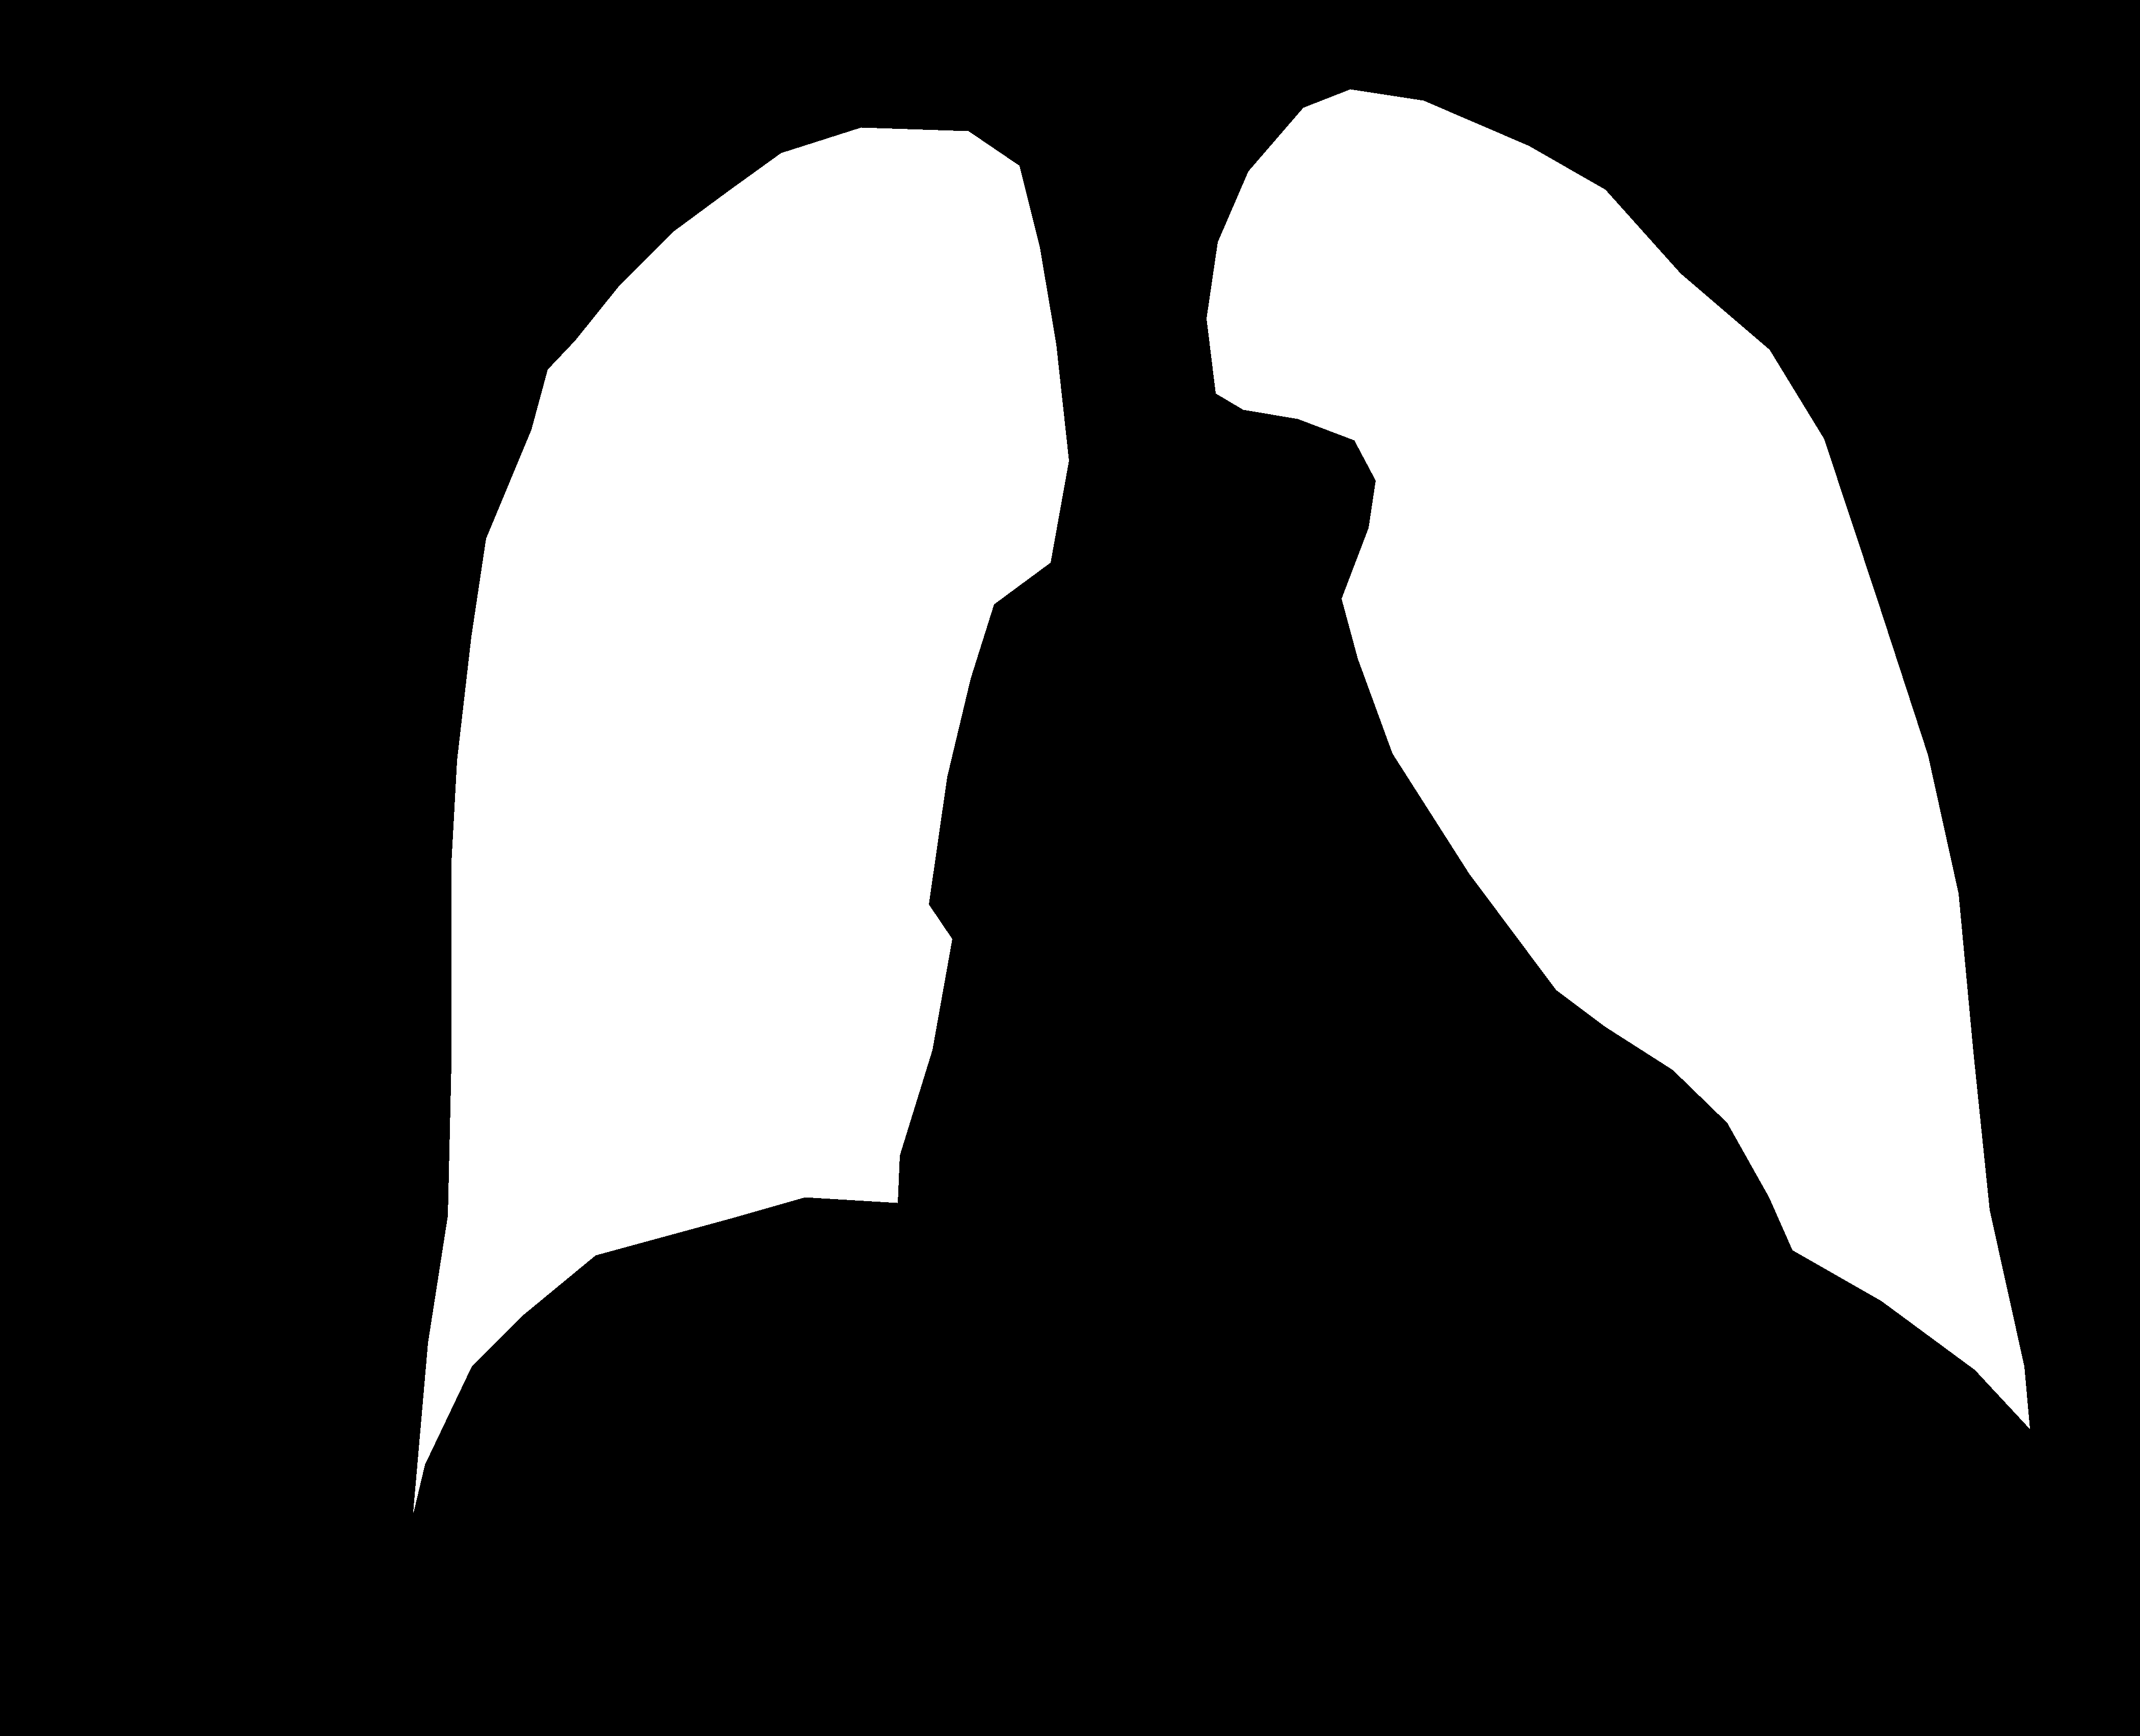heart: (902, 636, 1823, 1449)
left_lung: (413, 128, 1068, 1511)
right_lung: (1206, 89, 2030, 1428)
